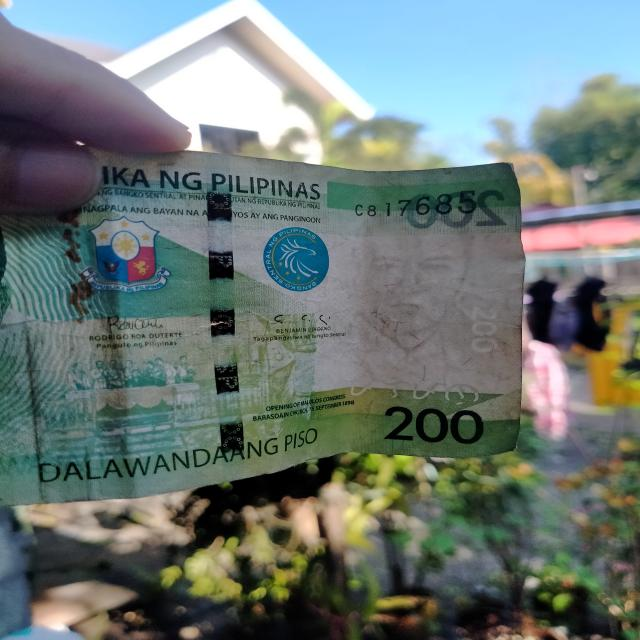security_thread: (205, 150, 248, 481)
see_through_mark: (337, 371, 481, 411)
value_watermark: (464, 300, 508, 366)
watermark: (308, 209, 484, 391)
